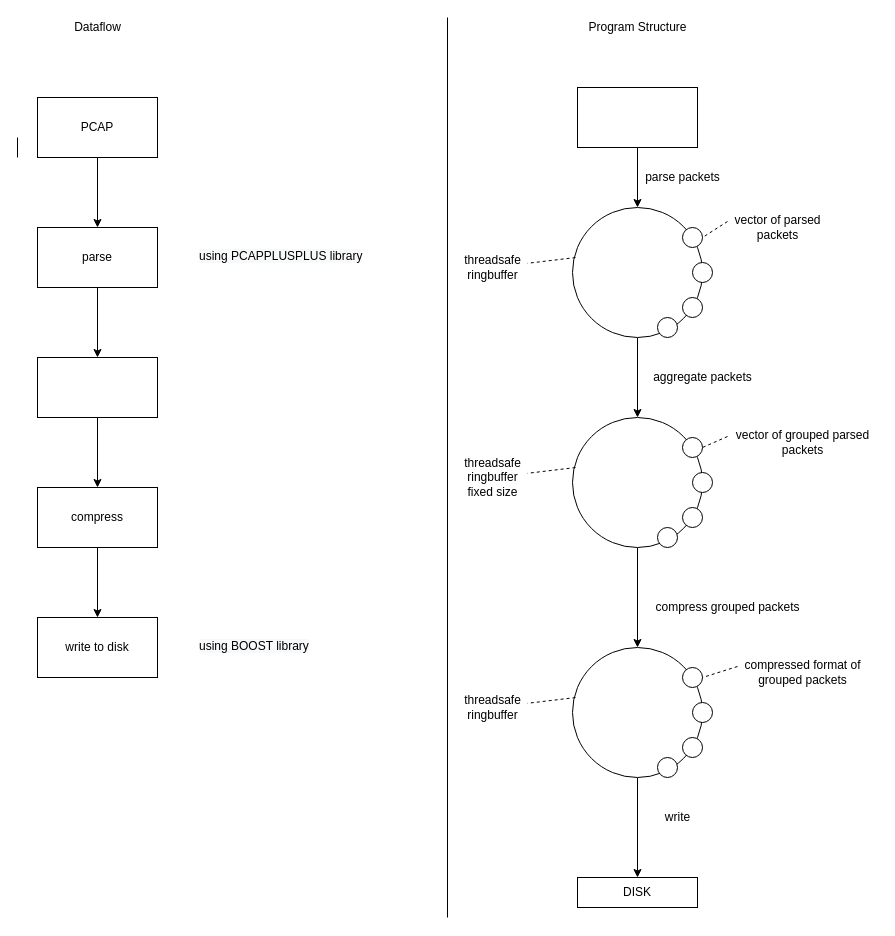
Some shapes in this 895 by 936 pixel diagram are drawn without their labels. Each missing label, with the centre of its shape:
aggregate: the point at 97,387
PCAP / live device: the point at 637,117
